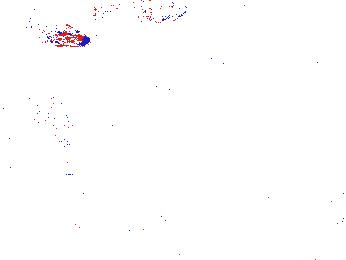X-ray fish: (44, 110, 79, 150)
glassfish: (193, 53, 298, 111)
red belly glassfish: (25, 19, 91, 49), (134, 74, 173, 94)
redtail glassfish: (87, 1, 189, 29)
